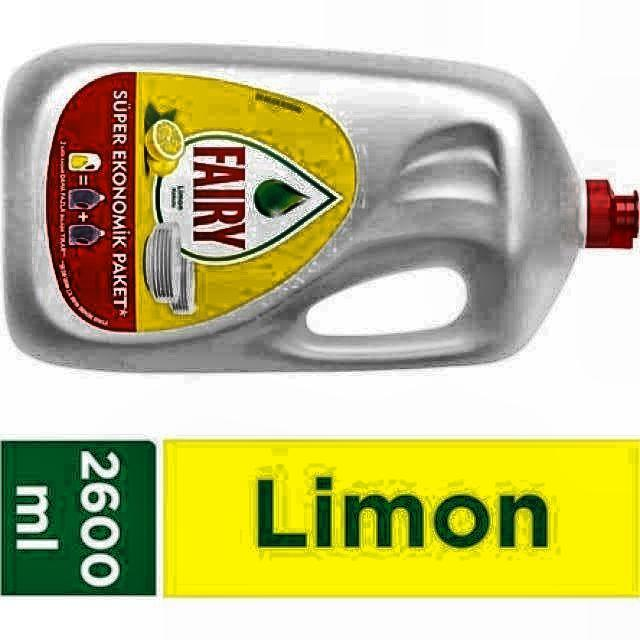plastic: (4, 45, 639, 371)
